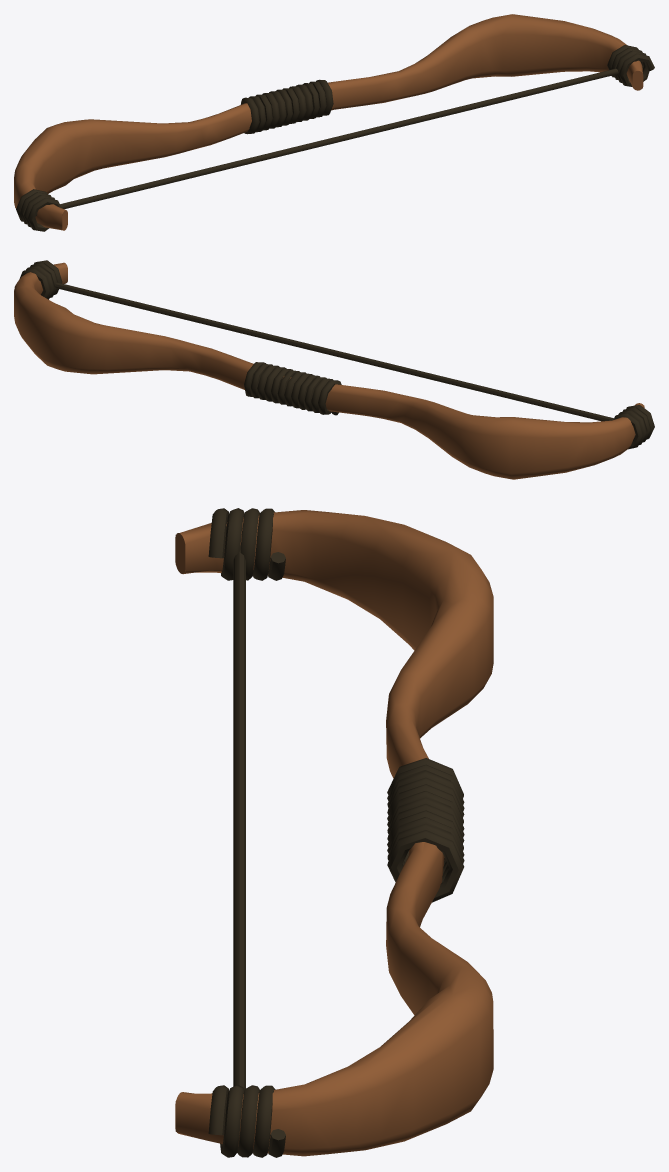
Rendered from Bow.fbx.
3 renders of one model, top to bottom at view 1: azimuth 30°, elevation 25°; view 2: azimuth 150°, elevation 25°; view 3: azimuth 270°, elevation 25°, orthographic. The views are drawn at different scales.
Visible parts, largest first — view 1: bow-as-a-mesh, bow-string, handle-coil, bow-tie2, bow-tie1; view 2: bow-as-a-mesh, bow-string, handle-coil, bow-tie1, bow-tie2; view 3: bow-as-a-mesh, handle-coil, bow-string, bow-tie2, bow-tie1.
Part boxes in pixels (x1=…): bow-as-a-mesh: x1=14, y1=14, x2=643, y2=230; bow-string: x1=36, y1=68, x2=618, y2=215; handle-coil: x1=240, y1=79, x2=333, y2=134; bow-tie2: x1=607, y1=45, x2=654, y2=86; bow-tie1: x1=16, y1=189, x2=61, y2=231; bow-as-a-mesh: x1=14, y1=262, x2=644, y2=479; bow-string: x1=55, y1=282, x2=613, y2=421; handle-coil: x1=244, y1=362, x2=341, y2=415; bow-tie1: x1=613, y1=405, x2=654, y2=449; bow-tie2: x1=19, y1=260, x2=62, y2=299; bow-as-a-mesh: x1=175, y1=510, x2=493, y2=1156; handle-coil: x1=387, y1=758, x2=464, y2=902; bow-string: x1=233, y1=545, x2=245, y2=1133; bow-tie2: x1=208, y1=1085, x2=285, y2=1157; bow-tie1: x1=208, y1=508, x2=285, y2=580.
Bounding box in the file's own units: 465 × 42.72 × 103.
